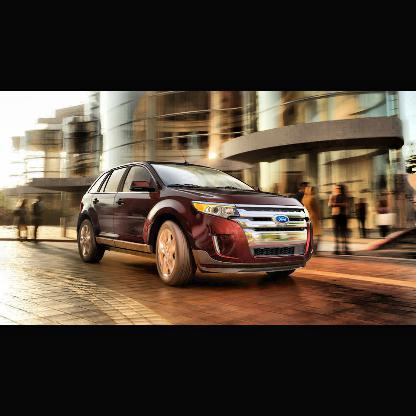Ford Edge SUV 2012: (78, 163, 316, 288)
